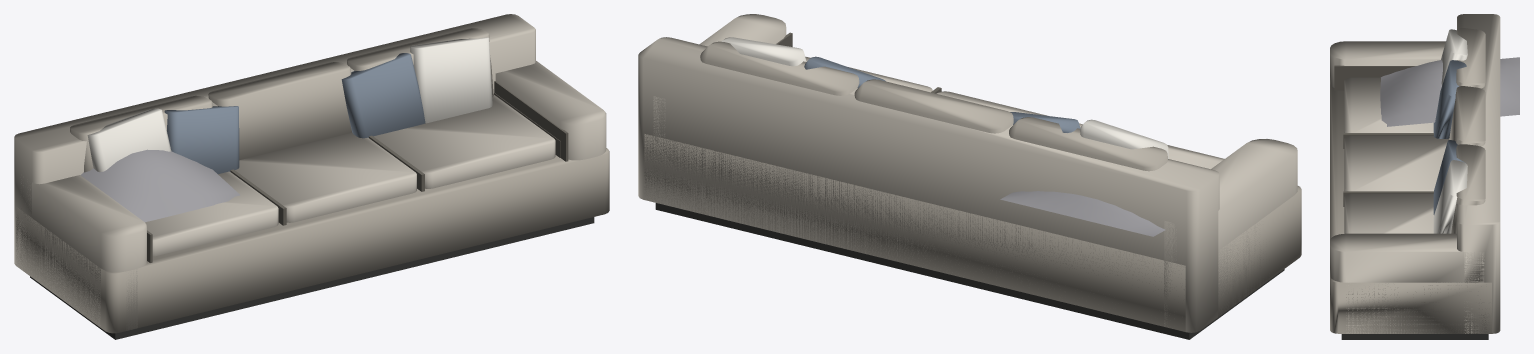
Rendered from sofa_s.glb.
3 renders of one model, left to right at view 1: azimuth 30°, elevation 25°; view 2: azimuth 150°, elevation 25°; view 3: azimuth 270°, elevation 25°, orthographic. The views are drawn at different scales.
Visible parts, largest first — view 1: root; view 2: root; view 3: root.
Boxes of the visible parts, x1,y1,x2,y2 form: root: (14,14,609,339); root: (638,14,1301,339); root: (1330,14,1519,339).
Size of the model in its own units: 3.23 by 0.9531 by 1.23.
